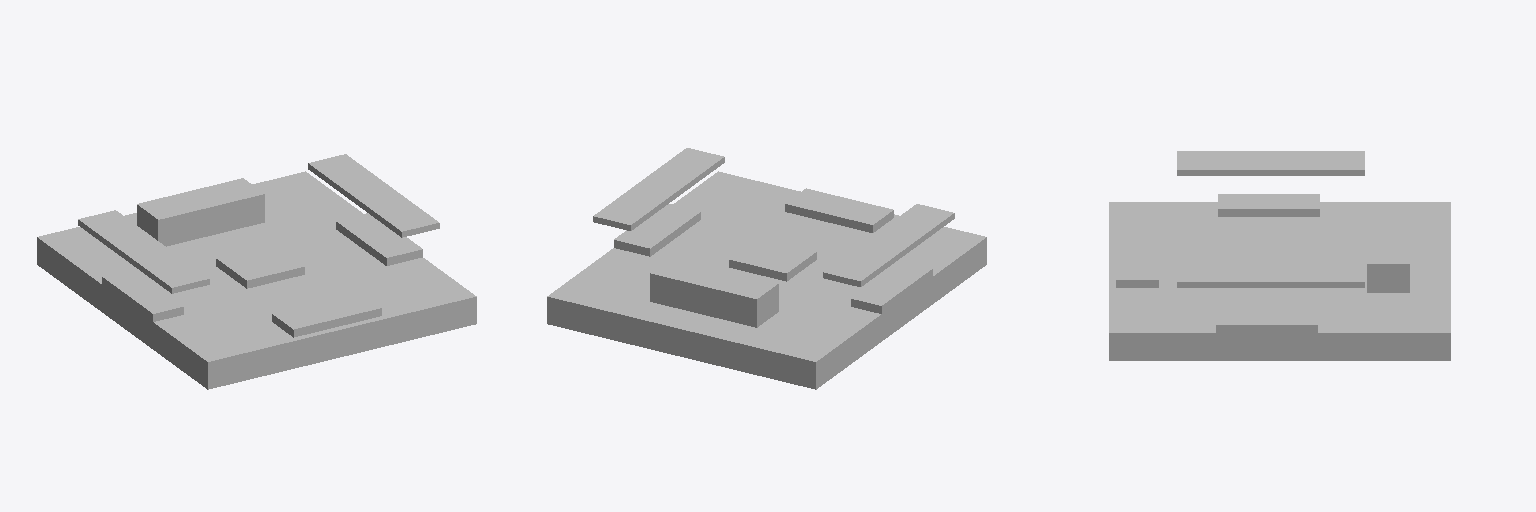
File: Test Map 001.obj
3 renders of one model, left to right at view 1: azimuth 30°, elevation 25°; view 2: azimuth 150°, elevation 25°; view 3: azimuth 270°, elevation 25°, orthographic.
Visible parts, largest first — view 1: Cube_(24).001; view 2: Cube_(24).001; view 3: Cube_(24).001.
Part boxes in pixels (bbox=[...]): Cube_(24).001: bbox=[37, 154, 476, 389]; Cube_(24).001: bbox=[547, 148, 986, 389]; Cube_(24).001: bbox=[1109, 151, 1450, 360].
Bounding box in the file's own units: 92.85 × 25.33 × 102.